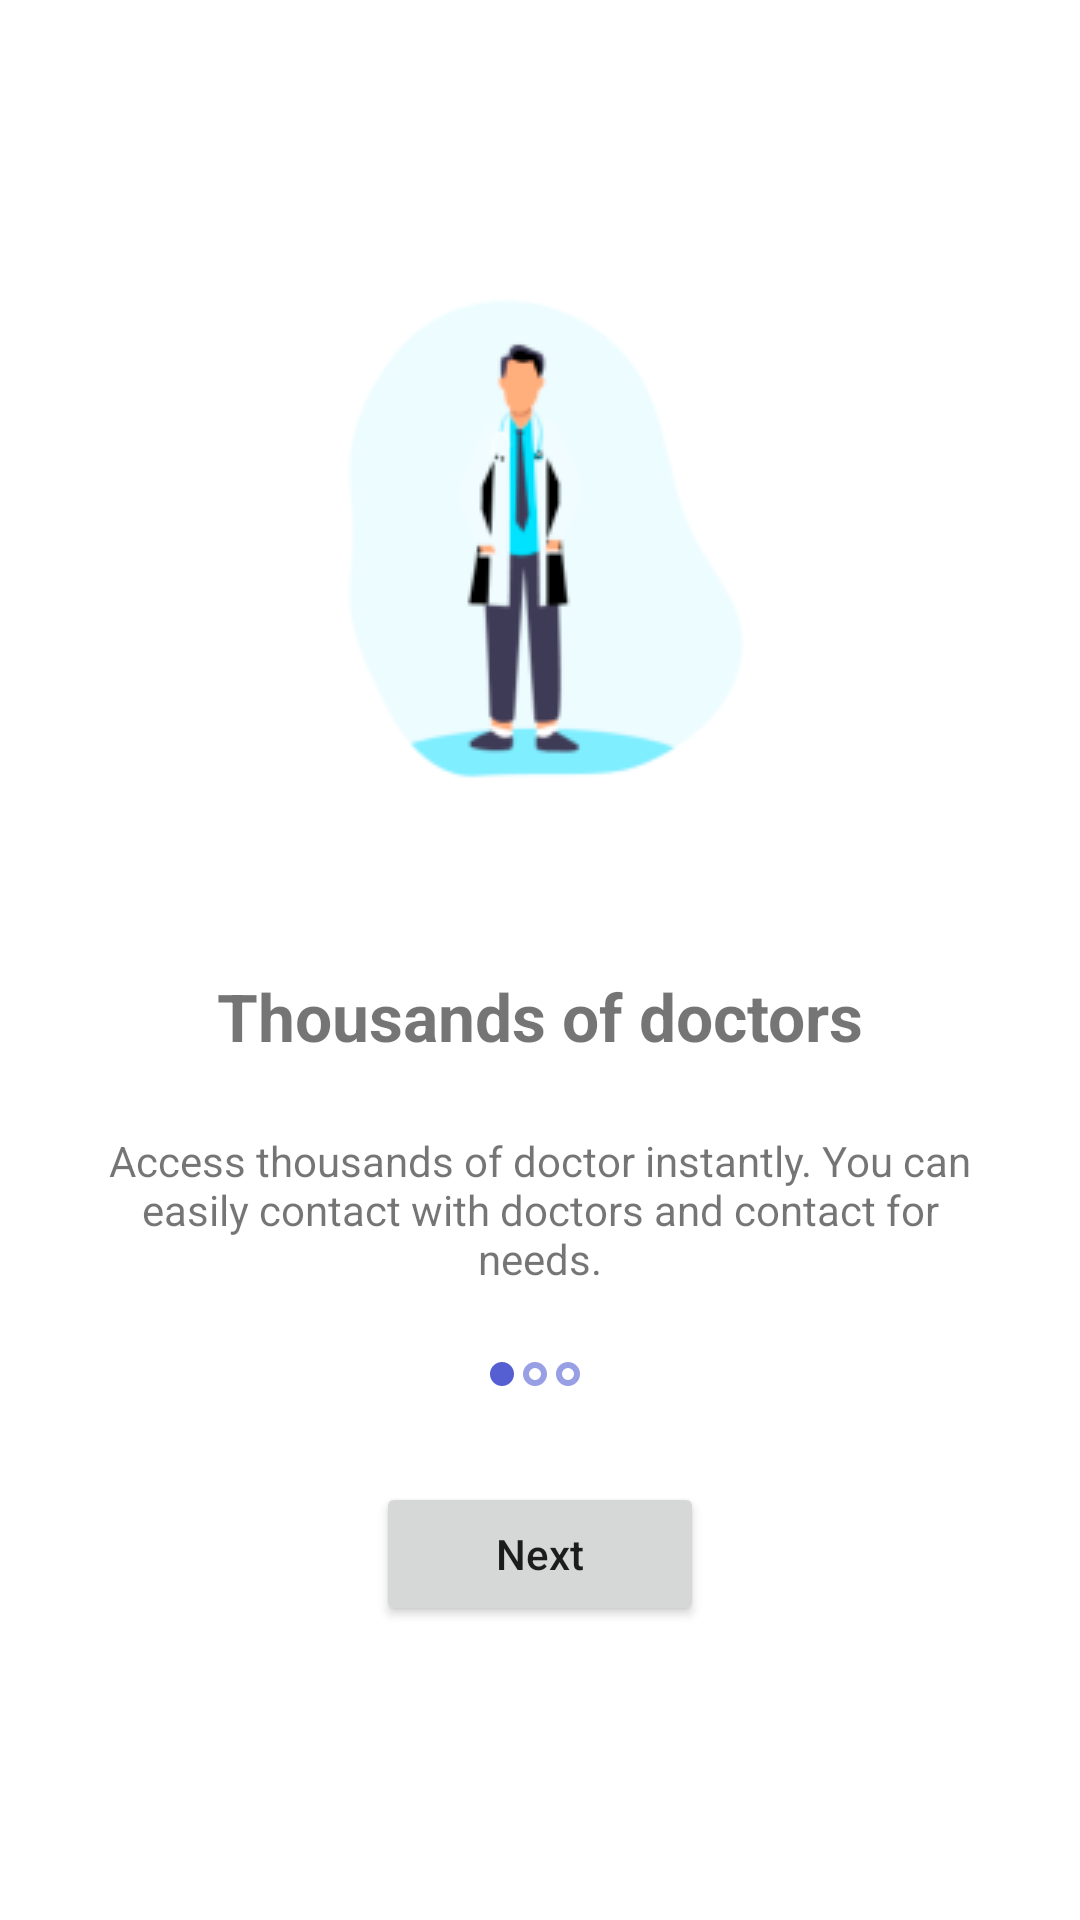

Icon click points for this 1080x1920 phone screenshot, format point (x, y):
slider bullet: point (502, 1374), point (535, 1374), point (568, 1374)
